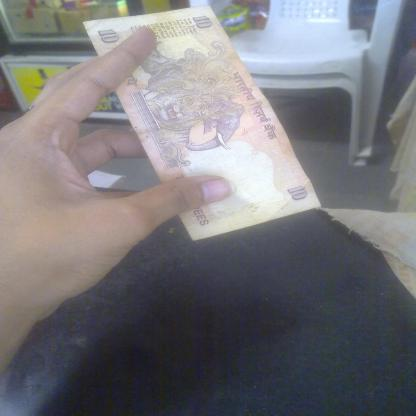Old10Back: (80, 5, 322, 242)
